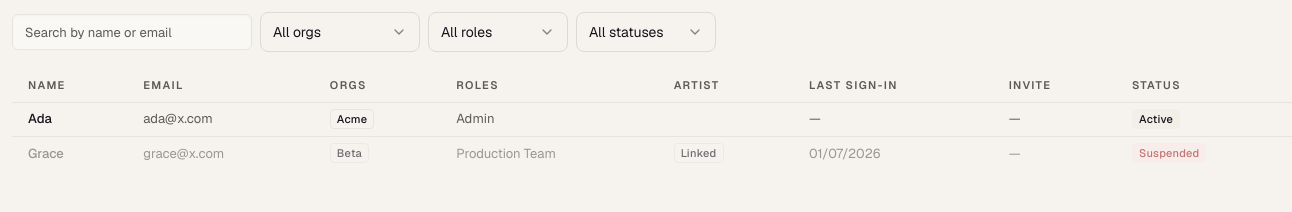
it: UsersTab › filters by role
Click the dropdown named "Role filter": (498, 32) [428,12,568,52]
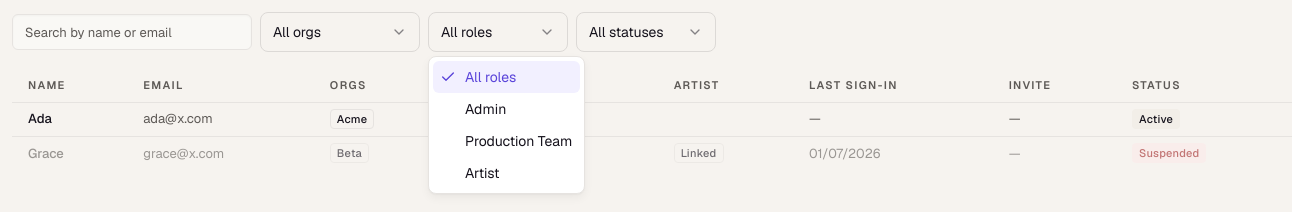
Click the option "Production Team": (519, 141) [465,132,572,150]
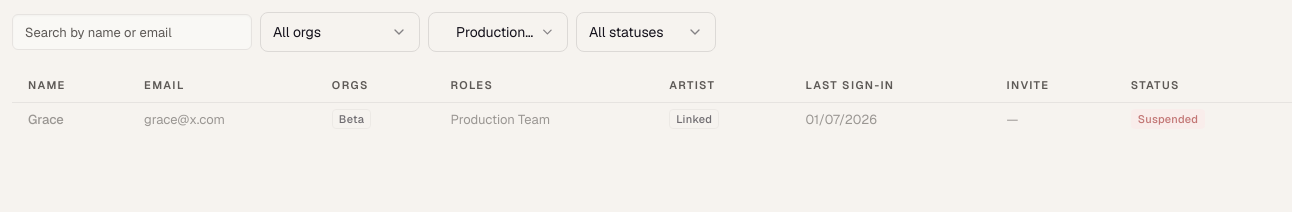
Expected: the text "Grace" is shown, [12,102,128,136]
Now the text "Ada" is gone
Click the dropdown named "Role filter": (498, 32) [428,12,568,52]
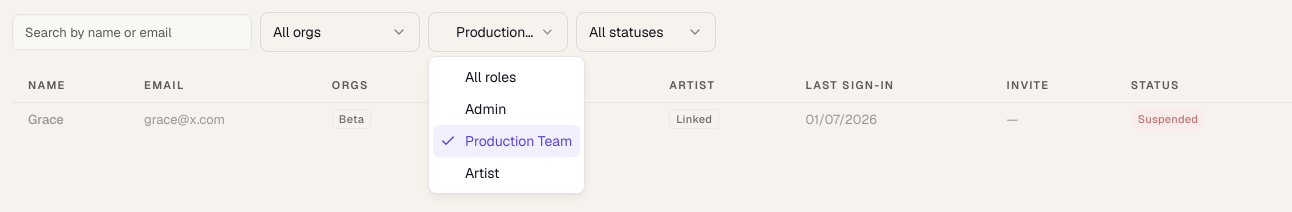
Click the option "All roles": (491, 77) [465,68,516,86]
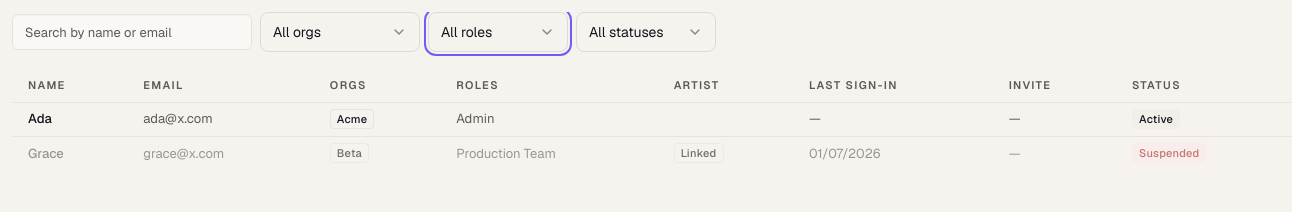
Expected: the text "Grace" is shown, [12,136,127,170]
Now the text "Ada" is shown, box [12,102,127,136]
